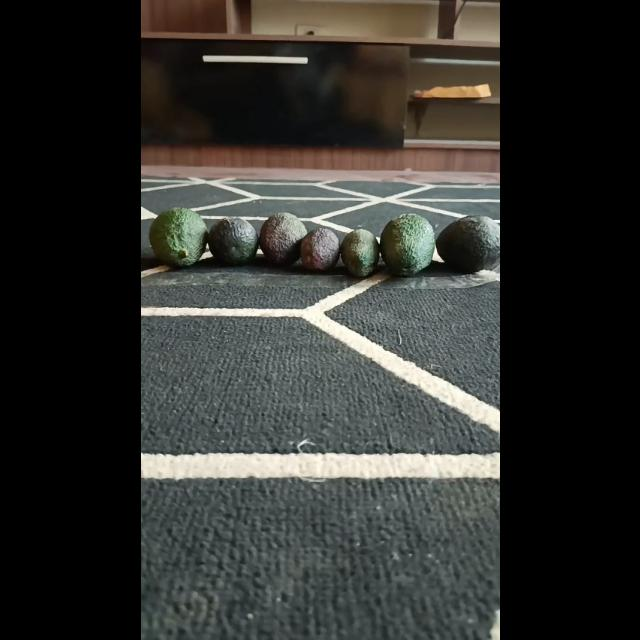Primera: (436, 215, 498, 273), (148, 206, 206, 268), (380, 213, 436, 277)
Segunda: (206, 216, 258, 266), (259, 212, 307, 266)
Tercera: (339, 229, 378, 277), (299, 228, 339, 272)
